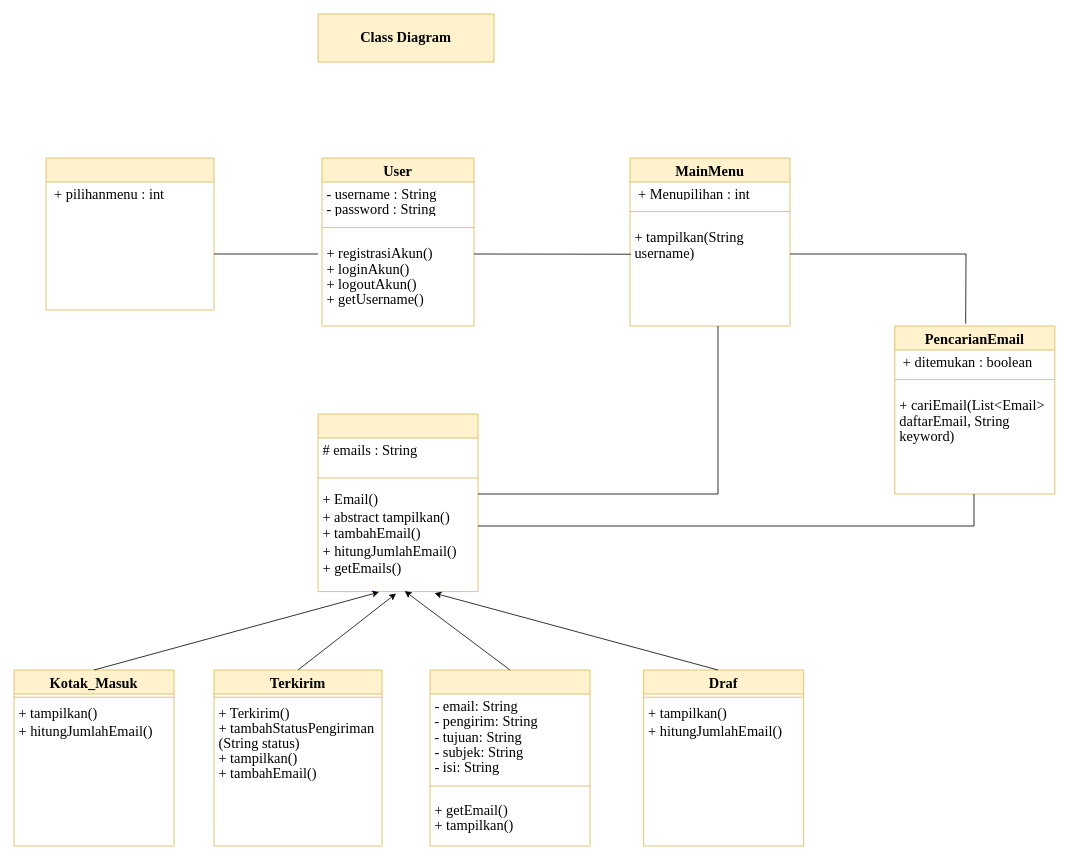
Some shapes in this 1069 by 862 pixel diagram are drawn without their labels. Here are the shapes that lost their labels. From the top down, the box of each, then its label:
(45, 157, 214, 310): MainGmail
(317, 413, 478, 592): abstract Email
(429, 669, 590, 846): Buat
